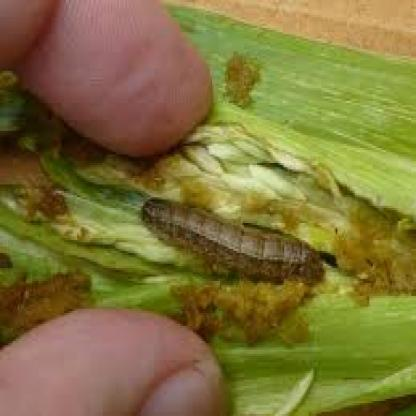armyworm: (140, 188, 329, 294)
